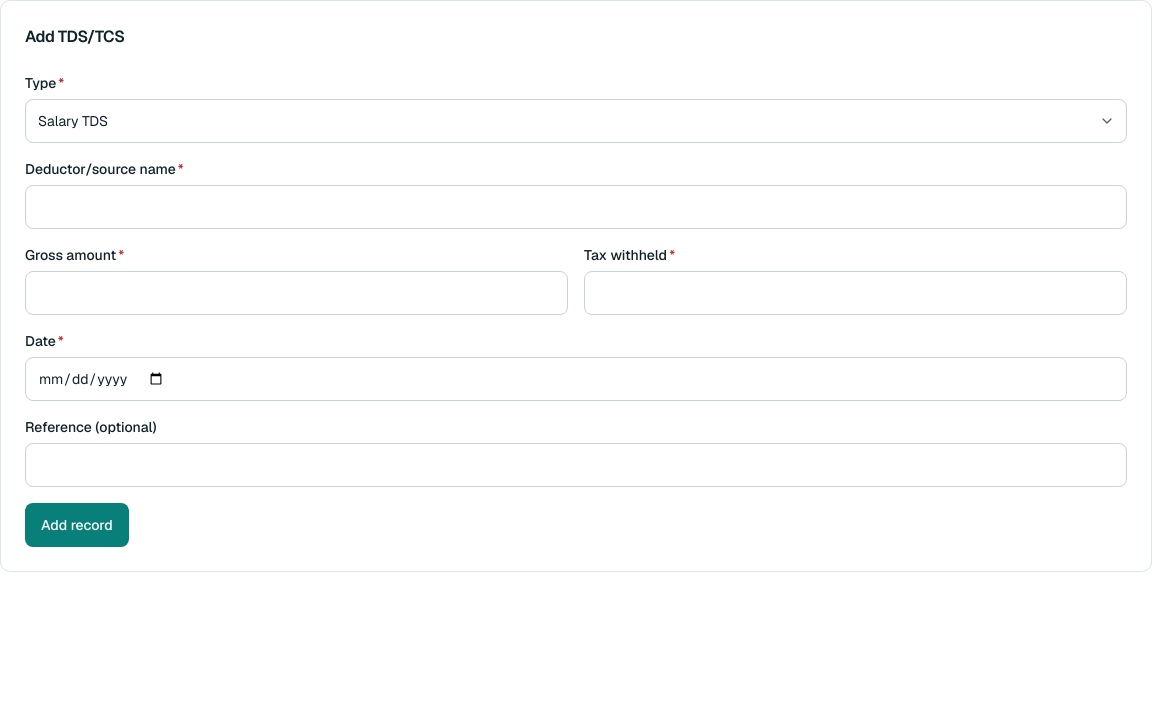
Test: TaxWithholdingForm — TDS/TCS types › shows a validation error for an invalid date/amount, tied to the offending field
Click the button "Add record": (77, 525) [25, 503, 129, 547]
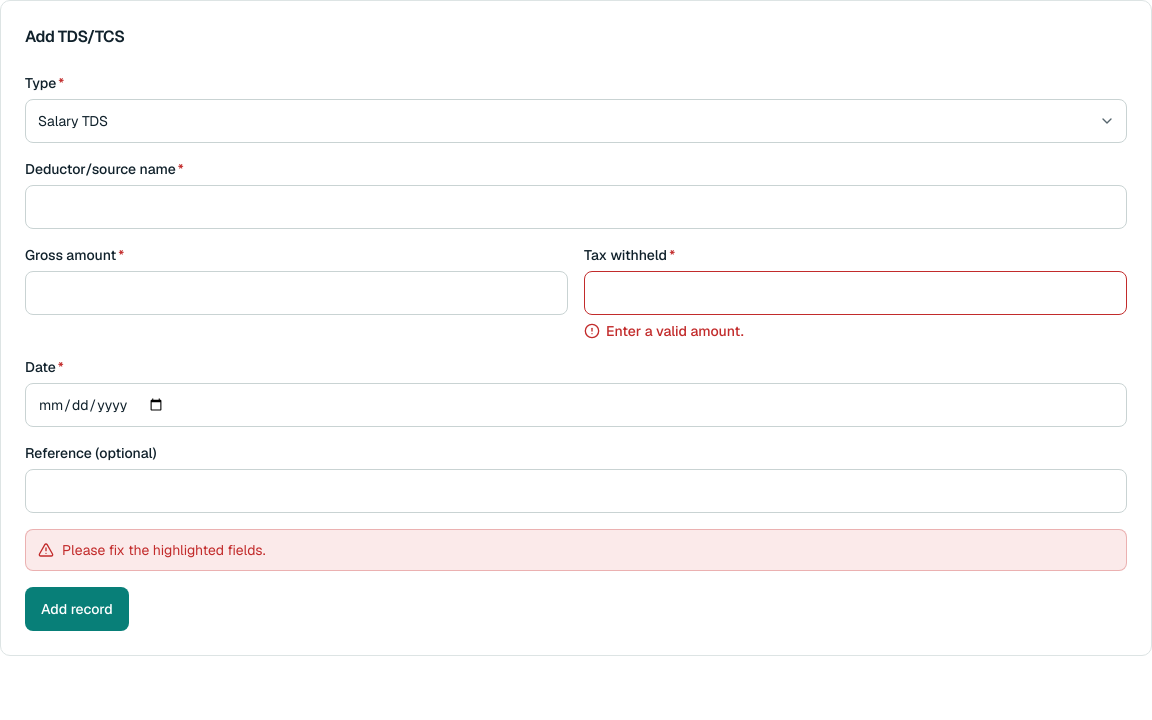
Check: the text "Enter a valid amount." is shown, box [584, 322, 744, 340]
